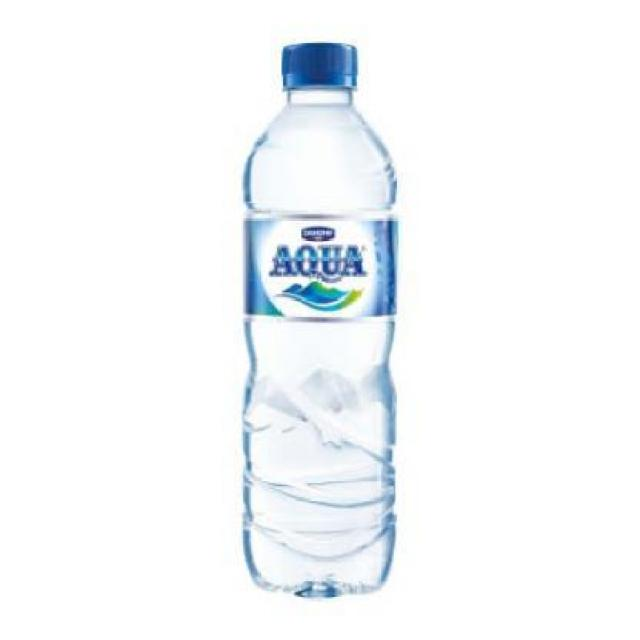bottle: (212, 41, 415, 604)
